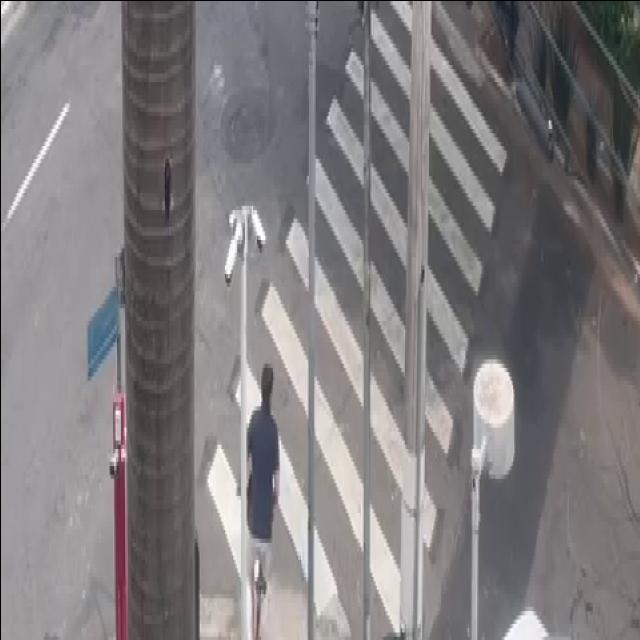bicycle: (237, 358, 283, 640)
